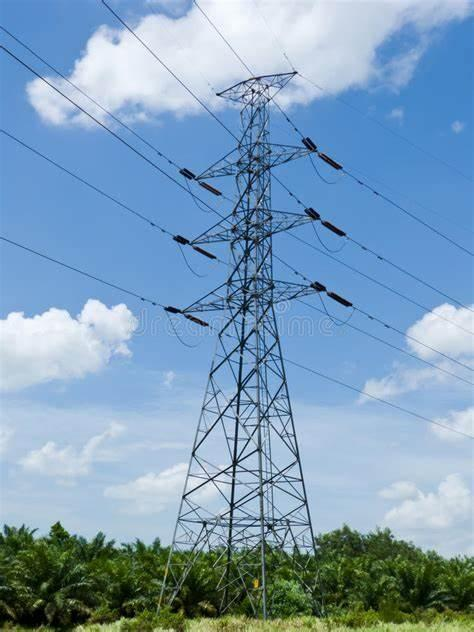power_tower: (158, 65, 360, 632)
